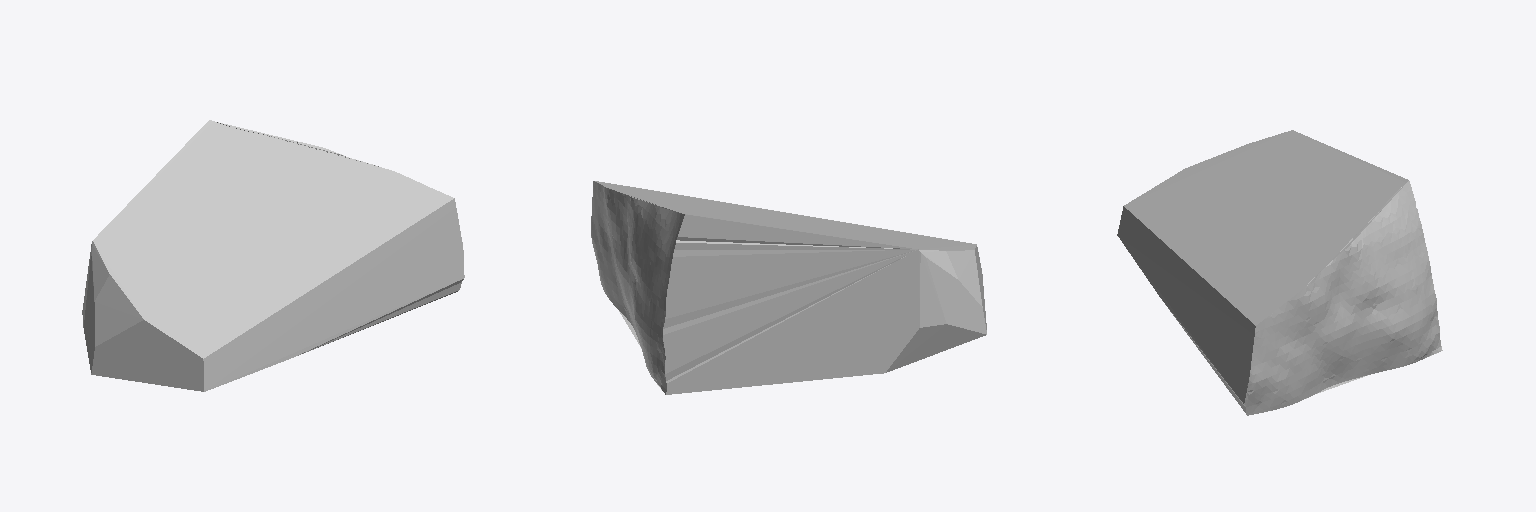
The model's file is low_cell_094.obj.
3 renders of one model, left to right at view 1: azimuth 30°, elevation 25°; view 2: azimuth 150°, elevation 25°; view 3: azimuth 270°, elevation 25°, orthographic.
Visible parts, largest first — view 1: low_cell.094_low_cell.093; view 2: low_cell.094_low_cell.093; view 3: low_cell.094_low_cell.093.
Boxes of the visible parts, x1,y1,x2,y2 form: low_cell.094_low_cell.093: [82, 120, 464, 391]; low_cell.094_low_cell.093: [591, 181, 986, 394]; low_cell.094_low_cell.093: [1117, 130, 1442, 415].
Size of the model in its own units: 0.978 by 0.4117 by 0.7179.